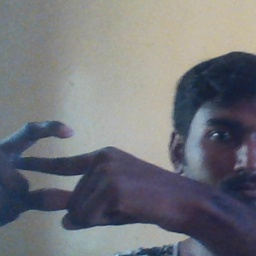E: (5, 118, 102, 220)
